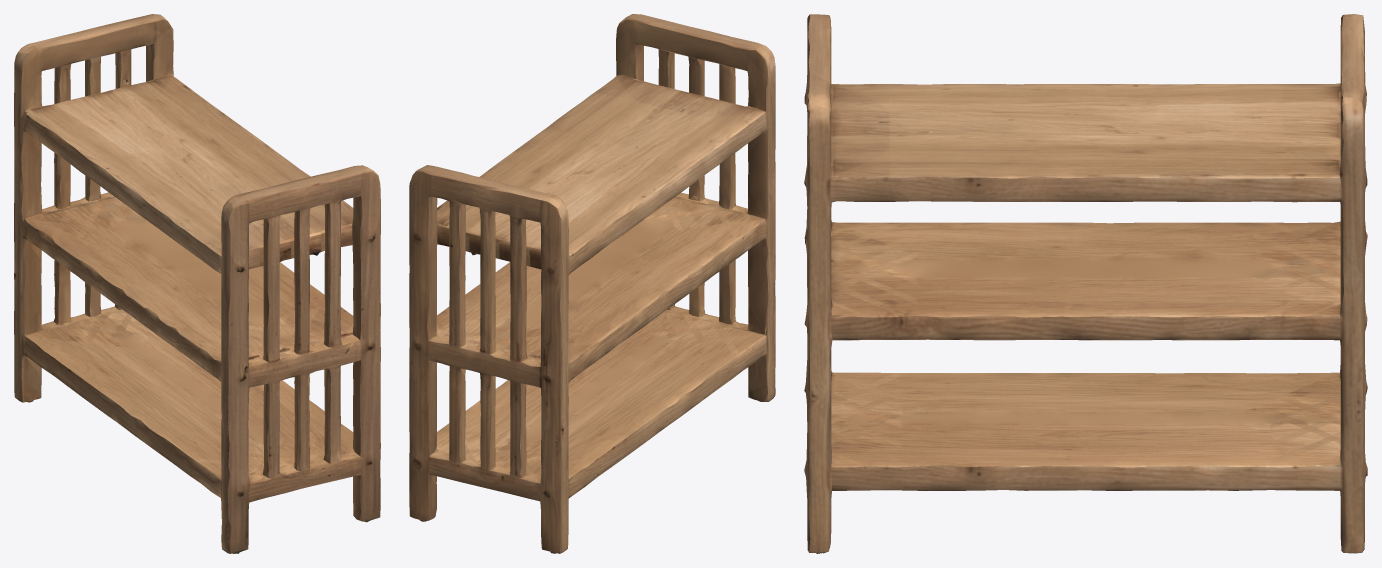
The model's file is mundane_shoe_rack.glb.
The picture shows the model from 3 angles, left to right: view 1: azimuth 30°, elevation 25°; view 2: azimuth 150°, elevation 25°; view 3: azimuth 270°, elevation 25°; orthographic projection. The views are drawn at different scales.
Parts seen in each view (by area): view 1: geometry_0; view 2: geometry_0; view 3: geometry_0.
Part boxes in pixels (x1=…): geometry_0: x1=14, y1=14, x2=380, y2=553; geometry_0: x1=409, y1=14, x2=775, y2=553; geometry_0: x1=804, y1=14, x2=1367, y2=553.
Size of the model in its own units: 0.6 by 1.33 by 1.49.
1 material, 1 textured.
